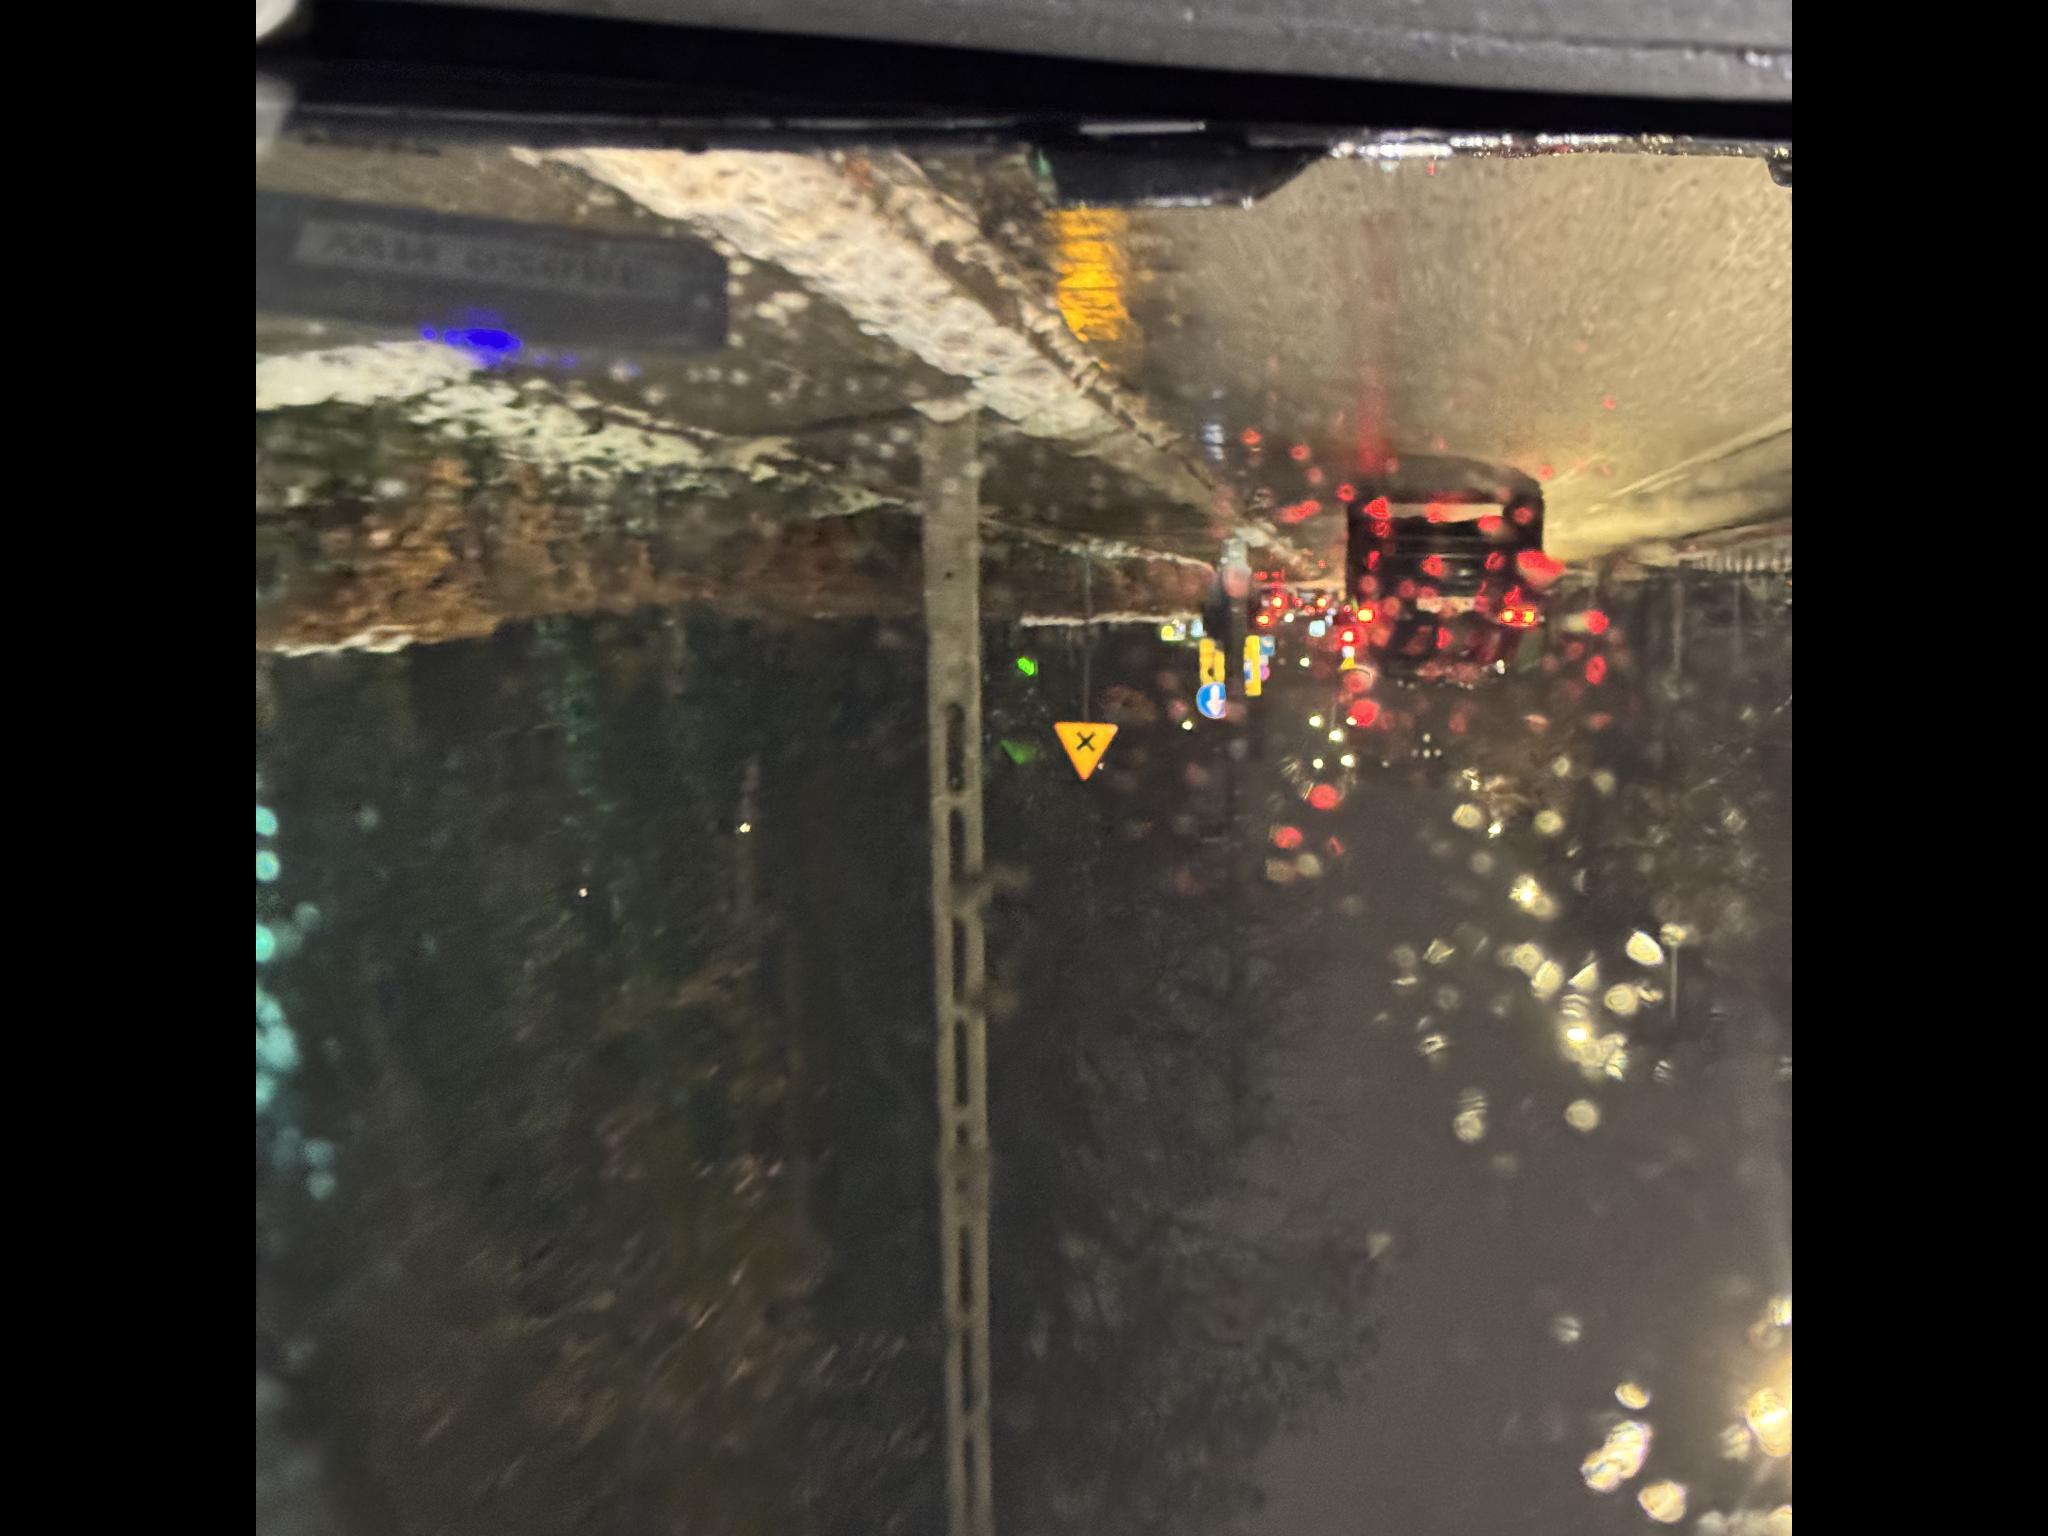mandatory: (1330, 1195, 1366, 1227)
warning: (1266, 1052, 1330, 1120)
